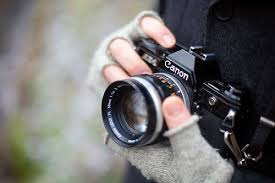camera: (104, 36, 245, 152)
